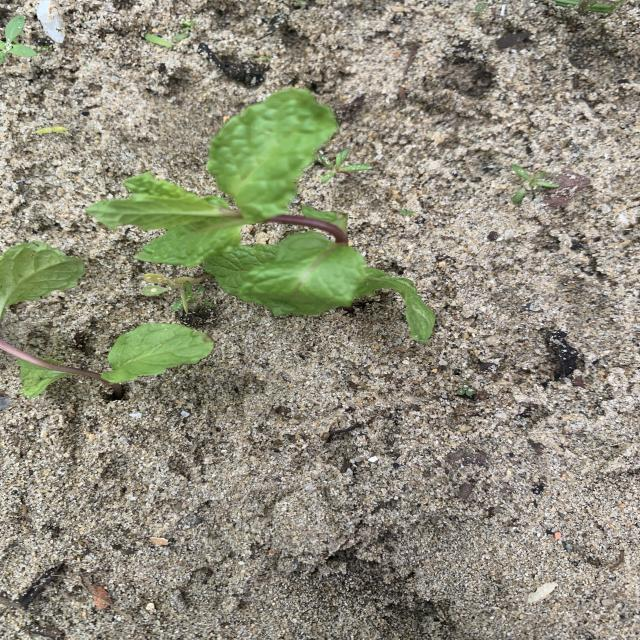crop: (88, 88, 396, 315), (2, 321, 209, 395)
weed: (141, 273, 203, 314), (319, 149, 370, 183), (512, 165, 557, 203), (1, 16, 36, 63), (144, 19, 195, 48), (457, 383, 476, 398), (37, 126, 67, 134), (399, 209, 413, 216)
